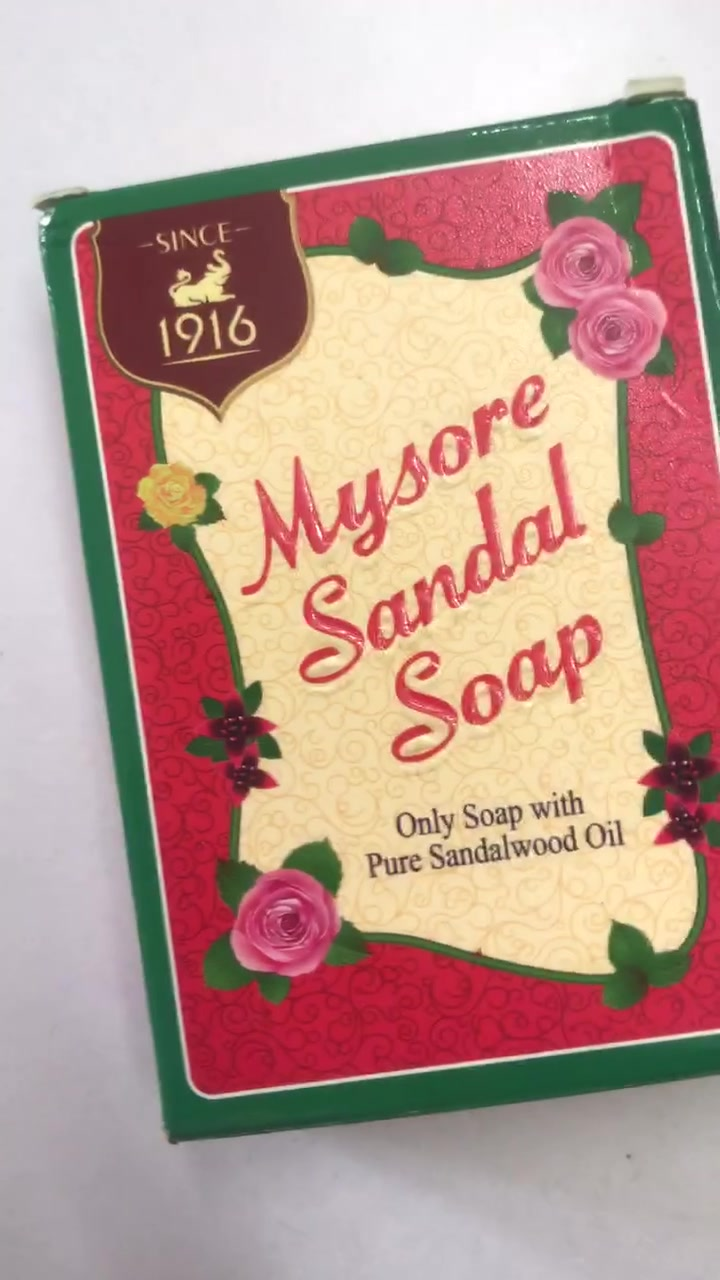mysore sandal soap: (42, 120, 720, 1142)
